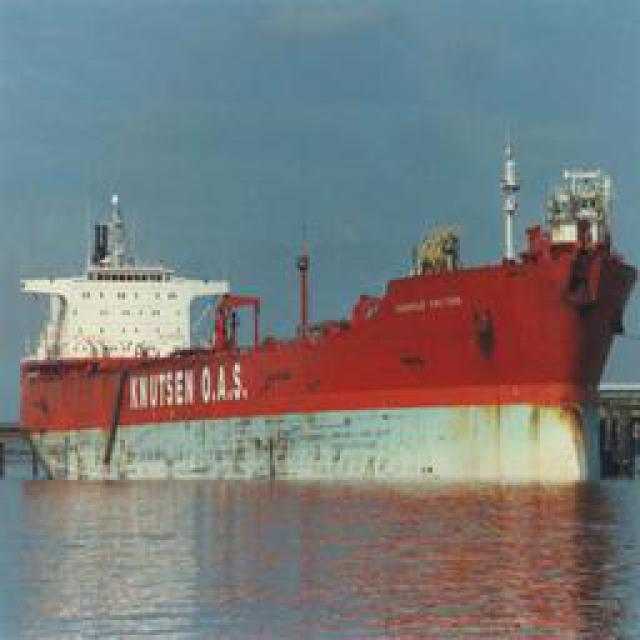Ship: (26, 188, 231, 363)
